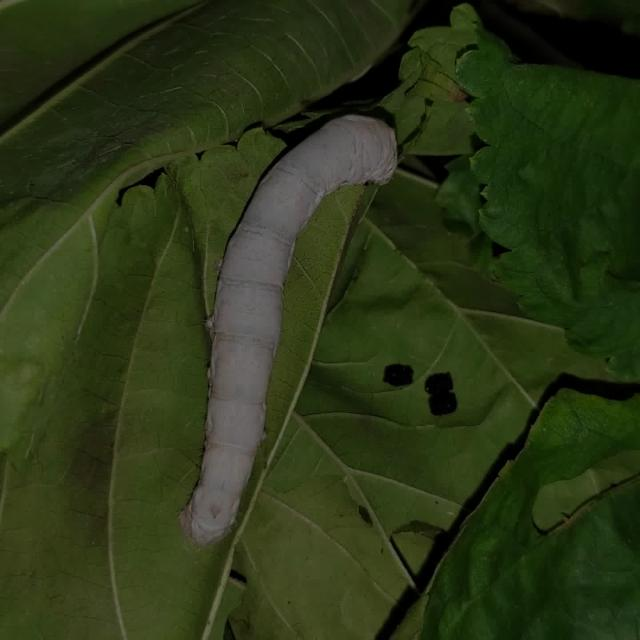Healthy: (165, 71, 420, 606)
